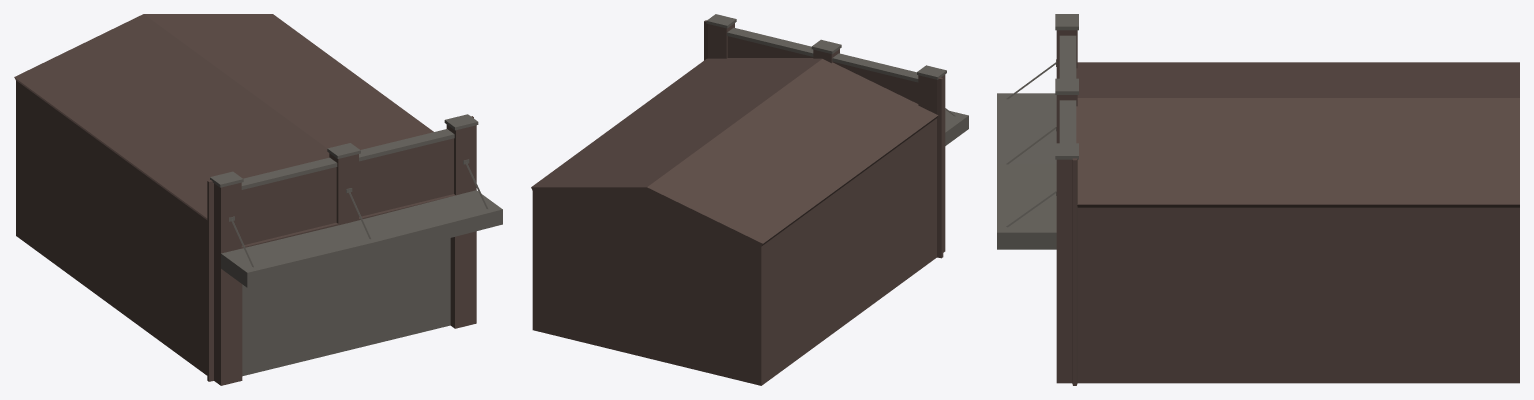
Rendered from rural-store-1.walls-v1.lod2.glb.
The picture shows the model from 3 angles, left to right: view 1: azimuth 30°, elevation 25°; view 2: azimuth 150°, elevation 25°; view 3: azimuth 270°, elevation 25°; orthographic projection. The views are drawn at different scales.
Parts seen in each view (by area): view 1: Rural_StoreSmall_1_Rural_Brownstone_Facade_Flr_6_0; view 2: Rural_StoreSmall_1_Rural_Brownstone_Facade_Flr_6_0; view 3: Rural_StoreSmall_1_Rural_Brownstone_Facade_Flr_6_0.
Part boxes in pixels (x1=…): Rural_StoreSmall_1_Rural_Brownstone_Facade_Flr_6_0: x1=14, y1=14, x2=502, y2=385; Rural_StoreSmall_1_Rural_Brownstone_Facade_Flr_6_0: x1=531, y1=14, x2=968, y2=385; Rural_StoreSmall_1_Rural_Brownstone_Facade_Flr_6_0: x1=997, y1=14, x2=1519, y2=385.
Size of the model in its own units: 8.32 by 6.06 by 12.59.
